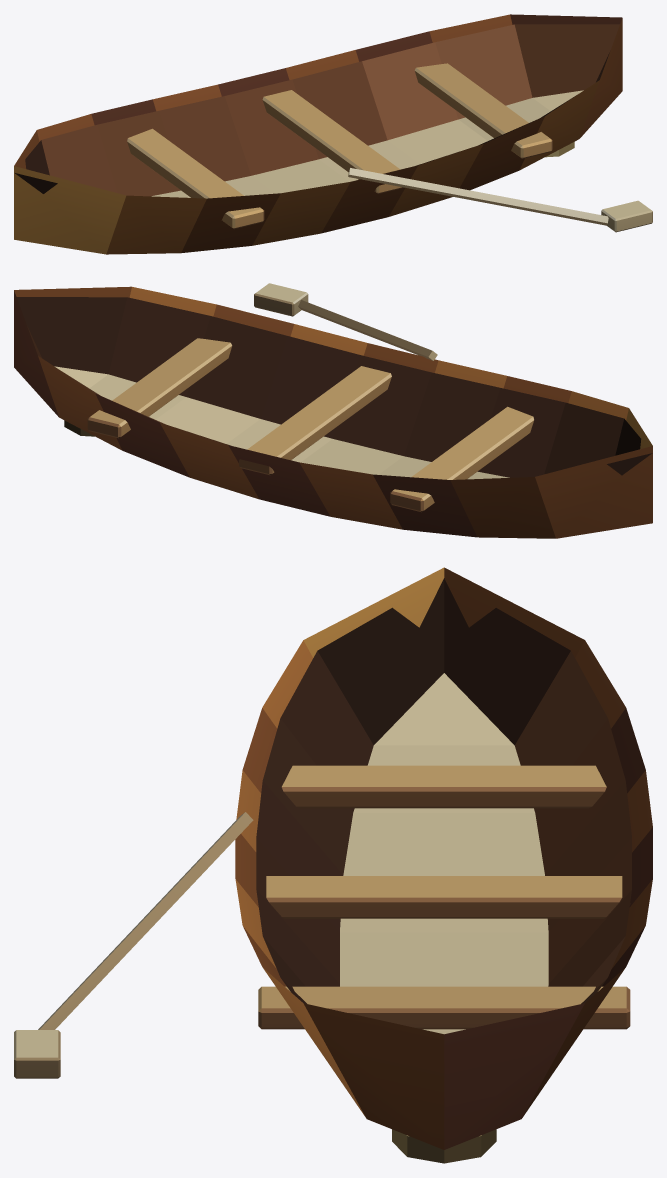
File: rowboat.glb
3 renders of one model, top to bottom at view 1: azimuth 30°, elevation 25°; view 2: azimuth 150°, elevation 25°; view 3: azimuth 270°, elevation 25°, orthographic. The views are drawn at different scales.
Parts seen in each view (by area): view 1: rowboat; view 2: rowboat; view 3: rowboat.
Part boxes in pixels (x1,y1,x2,y2): rowboat: [14, 14, 652, 254]; rowboat: [14, 283, 652, 538]; rowboat: [14, 567, 652, 1163].
Bounding box in the file's own units: 1.9 × 0.32 × 1.1.
